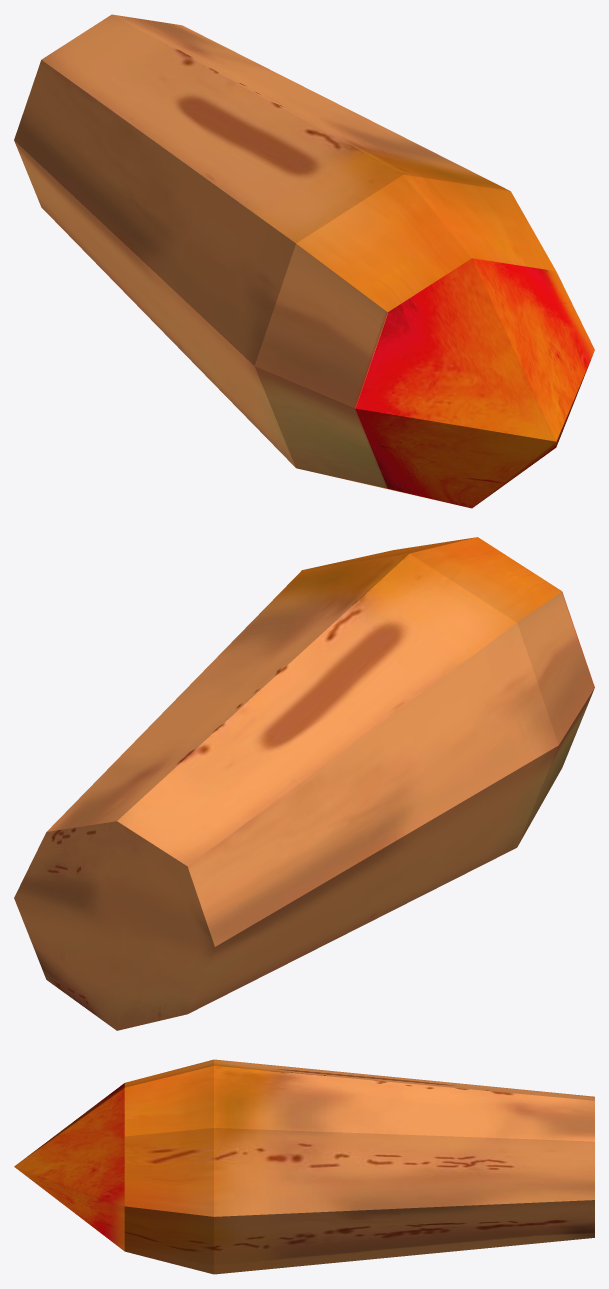
File: pirates_bullet1 (2).fbx
3 views of the same model, one above another, from view 1: azimuth 30°, elevation 25°; view 2: azimuth 150°, elevation 25°; view 3: azimuth 270°, elevation 25° (orthographic). The views are drawn at different scales.
Parts seen in each view (by area): view 1: Куб.013; view 2: Куб.013; view 3: Куб.013.
Part boxes in pixels (<box>): Куб.013: <box>14,14,594,508</box>; Куб.013: <box>14,537,594,1030</box>; Куб.013: <box>14,1059,594,1274</box>.
Bounding box in the file's own units: 11.48 × 10.98 × 28.96.
Materials: 1 (1 with a texture image).
